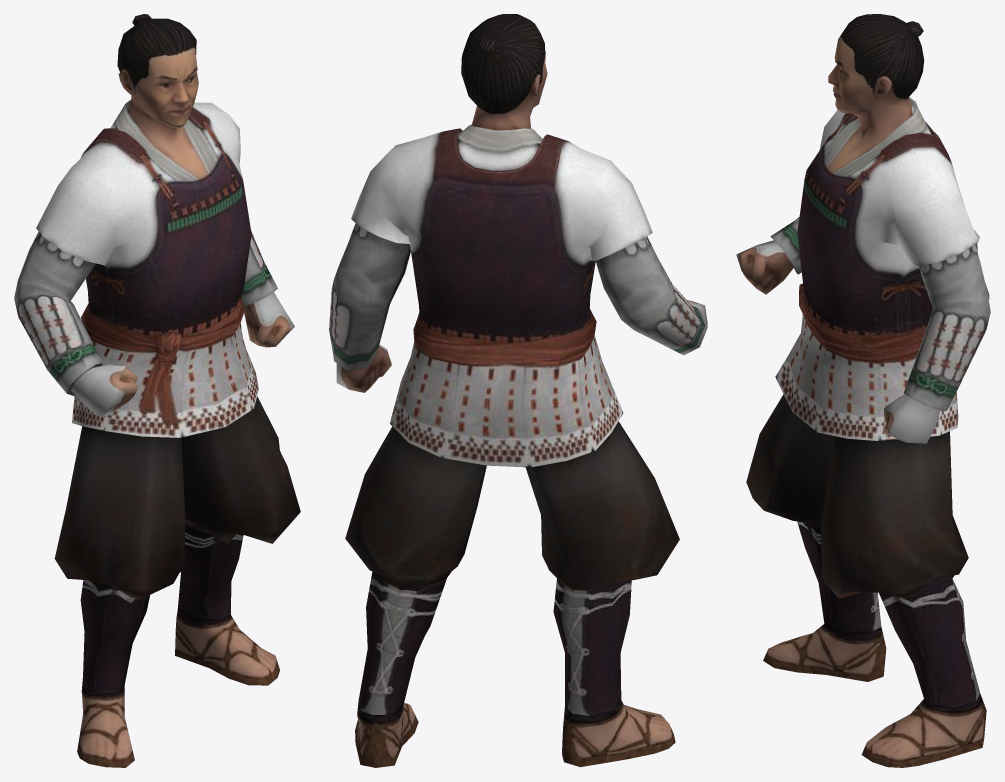
File: body-heavyguardhousesoldiers.glb
The picture shows the model from 3 angles, left to right: view 1: azimuth 30°, elevation 25°; view 2: azimuth 150°, elevation 25°; view 3: azimuth 270°, elevation 25°; orthographic projection. The views are drawn at different scales.
Bounding box in the file's own units: 0.9053 × 2.03 × 0.6792.
Materials: 1 (1 with a texture image).
